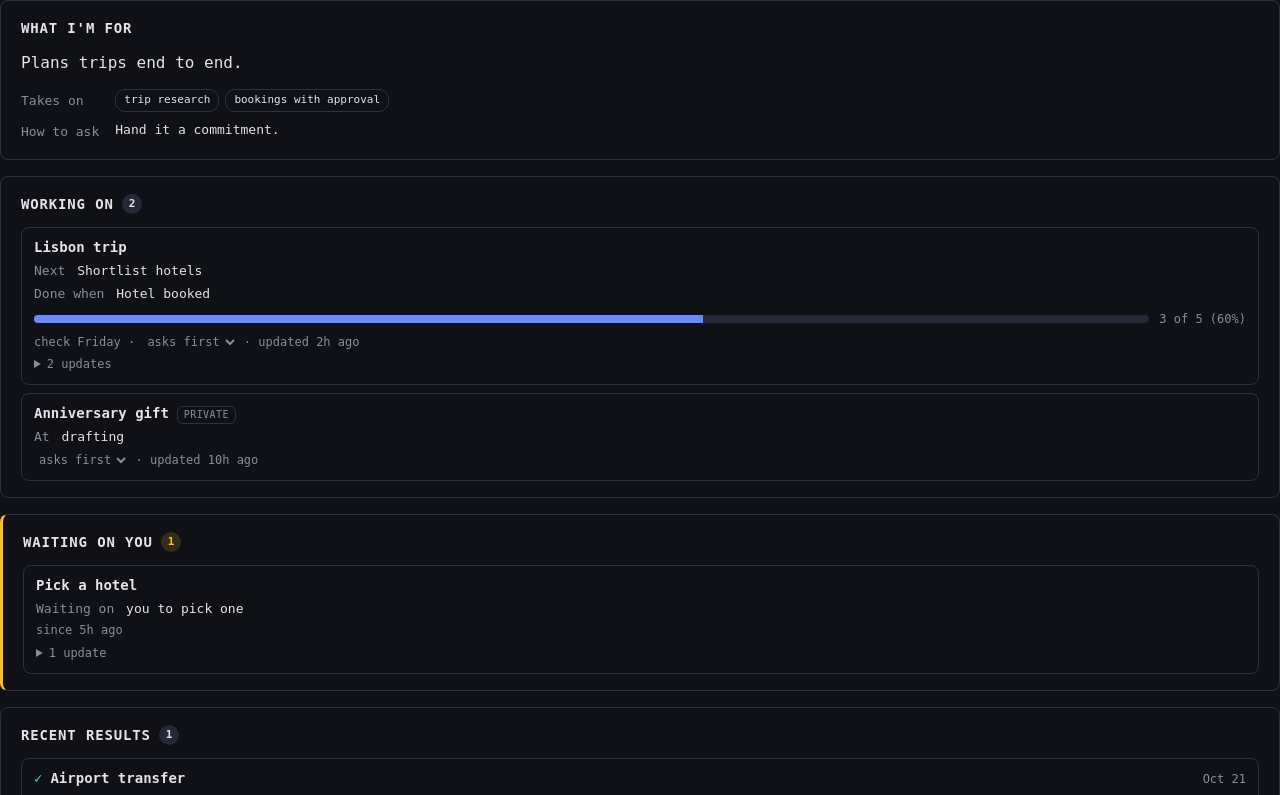
Test: autonomy on its work › says a refusal under the line, in plain words when the record changed meanwhile
Select "acts, then tells you" in the dropdown named "What it may do on its own about “Lisbon trip”" at (190, 342), box [140, 333, 239, 351]
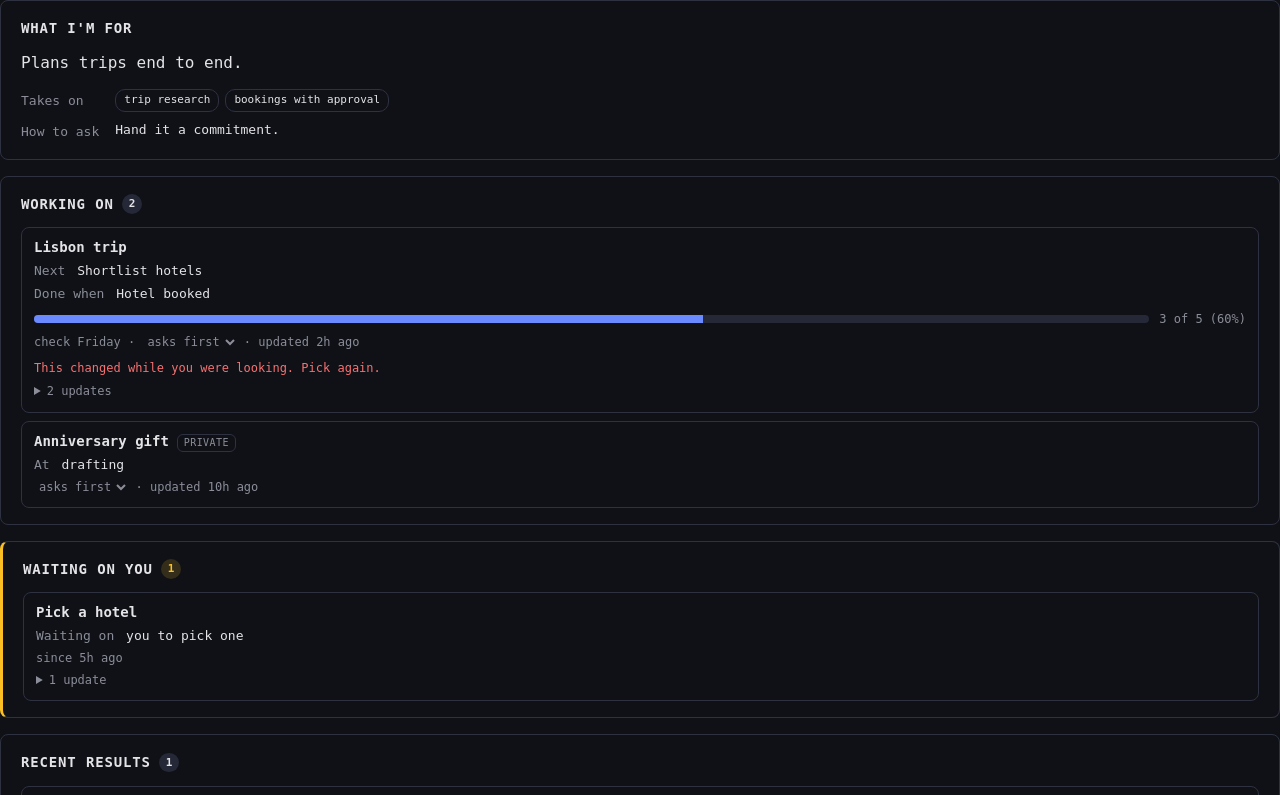
expect the message "This changed while you were looking. Pick again." is shown: met, box [34, 361, 381, 375]
Select "acts quietly" in the dropdown named "What it may do on its own about “Lisbon trip”" at (190, 342), box [140, 333, 239, 351]
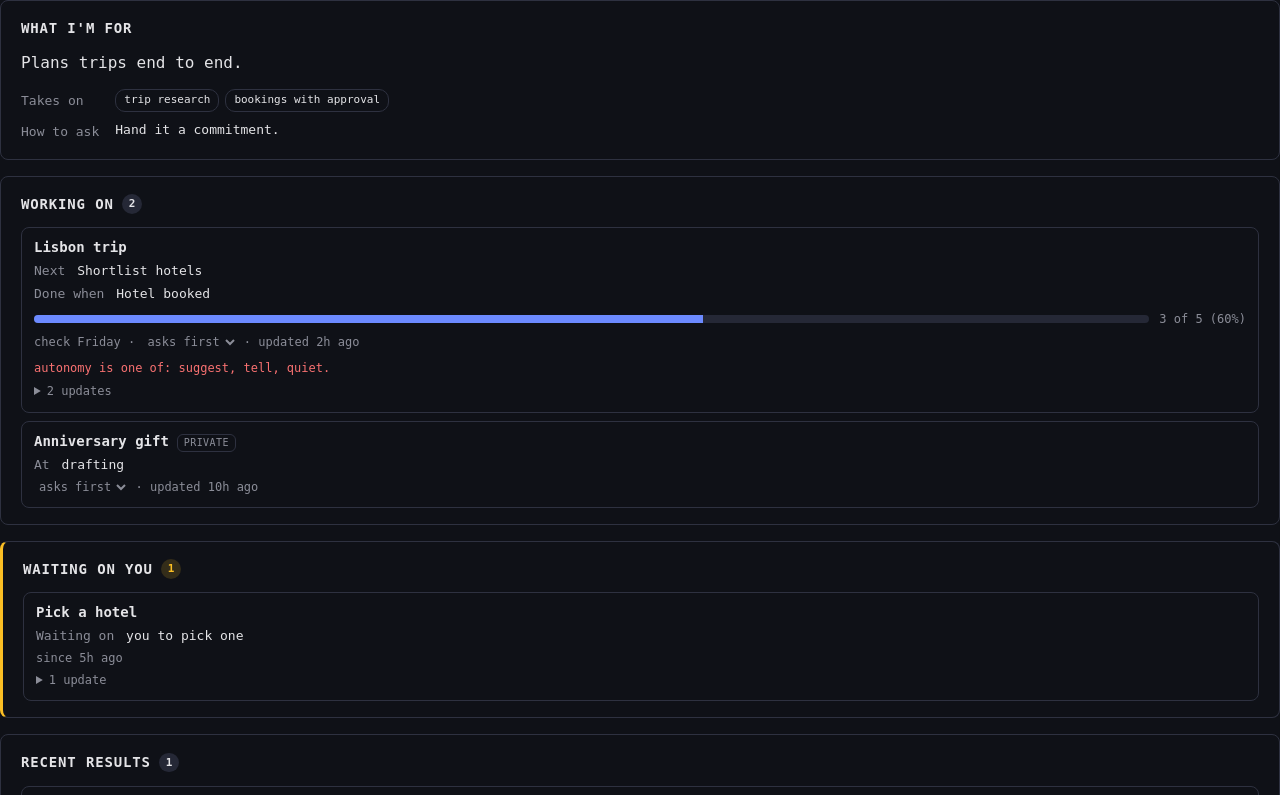
expect the message "autonomy is one of: suggest, tell, quiet." is shown: met, box [34, 361, 330, 375]
